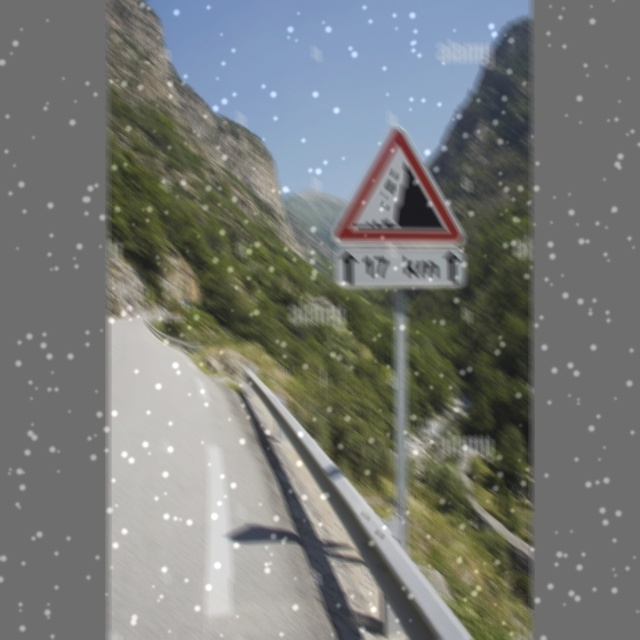Falling_Rocks: (336, 127, 460, 243)
